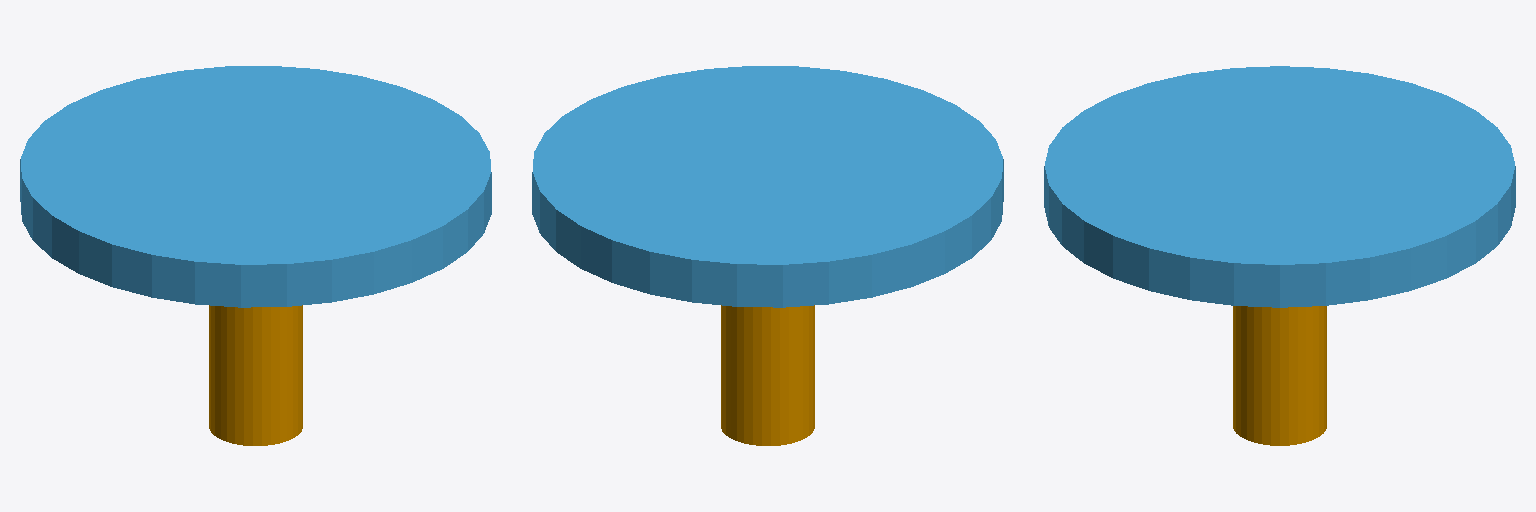
URDF robot description (simple_exaple):
<?xml version="1.0"?>
<robot name="simple_exaple">

  <!--Link #1-->
  <link name="base_link">
    <inertial>
        <mass value="10" />
        <inertia ixx="0.4" ixy="0.0" ixz="0.0" iyy="0.4" iyz="0.0" izz="0.2"/>
    </inertial>
    <collision>
      <geometry>
        <cylinder radius="0.05" length="0.24" />
      </geometry>
        </collision>
    <visual>
      <geometry>
        <cylinder radius="0.05" length="0.24" />
      </geometry>
    </visual>
    <ode>
      <mu>100</mu>
      <mu2>100</mu2>
      <fdir1>1 0 0</fdir1>
      <slip1>0</slip1>
      <slip2>0</slip2>
    </ode>
    <kinematic>true</kinematic>
  </link>

  <!--Link #2-->
  <link name="second_link">
    <inertial>
        <mass value="0.18" />
        <inertia ixx="0.0" ixy="0.0" ixz="0.0" iyy="0.0" iyz="0.0" izz="0.0" />
    </inertial>
    <origin rpy="0.0 0.0 0.0" xyz="0.0 0.0 0.0" />
    <collision>
      <geometry>
        <cylinder radius="0.25" length="0.05" />
      </geometry>
    </collision>
    <visual>
      <geometry>
        <cylinder radius="0.25" length="0.05" />
      </geometry>
    </visual>
    <ode>
      <mu>-dInfinity</mu>
      <mu2>-dInfinity</mu2>
      <fdir1>1 0 0</fdir1>
      <slip1>0</slip1>
      <slip2>0</slip2>
    </ode>
    <kinematic>true</kinematic>
  </link>

  <!--joint-->
  <joint name="base_to_second_joint" type="continuous">
    <parent link="base_link"/>
    <child link="second_link"/>
    <axis xyz="0 0 1"/>
    <origin xyz="0.0 0.0 0.16" rpy="0.0 0.0 0.0"/> 
  </joint>

  <!--                GAZEBO RELATED PART                             -->

  <!-- ROS Control plugin for Gazebo. This allows Gazebo and Ros to to be connected,
       and for ros to control the model in the gazebo visualization -->
  <!-- <gazebo>
    <plugin name="gazebo_ros_control" filename="libgazebo_ros_control.so">
	  <this is the namespace in the yaml file>
      <robotNamespace>/simple_model</robotNamespace>
      <-The two lines below came from: https://answers.ros.org/question/292444/gazebo_ros_control-plugin-gazeboroscontrolplugin-missing-legacymodens-defaultrobothwsim/
      <robotSimType>gazebo_ros_control/DefaultRobotHWSim</robotSimType>
      <legacyModeNS>true</legacyModeNS>
    </plugin>
  </gazebo> -->

  <gazebo>
    <plugin name="omni_steering" filename="libgazebo_ros_planar_move.so">
      <commandTopic>/table_cmd_vel</commandTopic>
      <odometryTopic>/odom</odometryTopic>
      <odometryFrame>/odom</odometryFrame>
      <odometryRate>50.0</odometryRate>
      <robotBaseFrame>base_link</robotBaseFrame>
      <publishTF>false</publishTF>
    </plugin>
  </gazebo>
  <gazebo>
    <plugin name="ros_control" filename="libgazebo_ros_control.so">
    <!--robotNamespace>/</robotNamespace-->
    <!--robotSimType>gazebo_ros_control/DefaultRobotHWSim</robotSimType-->
    </plugin>
  </gazebo>



  <!-- transmission is the ability to define the ros controller used to control the joint. -->
  <transmission name="base_to_second_trans">
    <type>transmission_interface/SimpleTransmission</type>
    <actuator name="motor1">
      <mechanicalReduction>1</mechanicalReduction>
    </actuator>
    <joint name="base_to_second_joint">
      <!--lets use a postion type interface, which is a mechanism for ros_control
          to communicate with hardware. See: https://wiki.ros.org/ros_control-->
      <hardwareInterface>hardware_interface/VelocityJointInterface</hardwareInterface>
    </joint>
  </transmission>
</robot>

--- Facts derived from the render (not from the file) ---
3 views of the same robot in one strip: view 1: azimuth 30°, elevation 25°; view 2: azimuth 150°, elevation 25°; view 3: azimuth 270°, elevation 25° (orthographic).
Model simple_exaple with 2 links and 1 joints (1 continuous), rooted at base_link, posed all joints at 0.
Links seen in each view (by area): view 1: second_link, base_link; view 2: second_link, base_link; view 3: second_link, base_link.
Link boxes in pixels (x1,y1,x2,y2): second_link: [20, 66, 491, 307]; base_link: [209, 305, 302, 445]; second_link: [532, 66, 1003, 307]; base_link: [721, 305, 814, 445]; second_link: [1044, 66, 1515, 307]; base_link: [1233, 306, 1326, 445].
Bounding box of the posed robot: 0.5 × 0.5 × 0.305 m (x, y, z).
Geometry: primitives only (box / cylinder / sphere), no mesh files.
